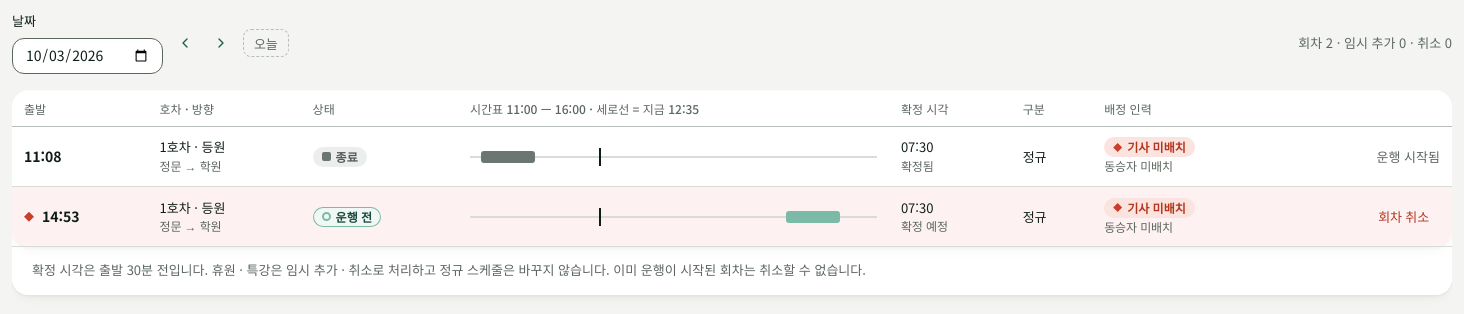
Test: RunDayList — 시간표 막대 열 › 오늘이 아닌 날짜를 보면 세로선 없이 막대만 그린다
Click the button named "다음날" at (221, 43), box [207,29,235,57]
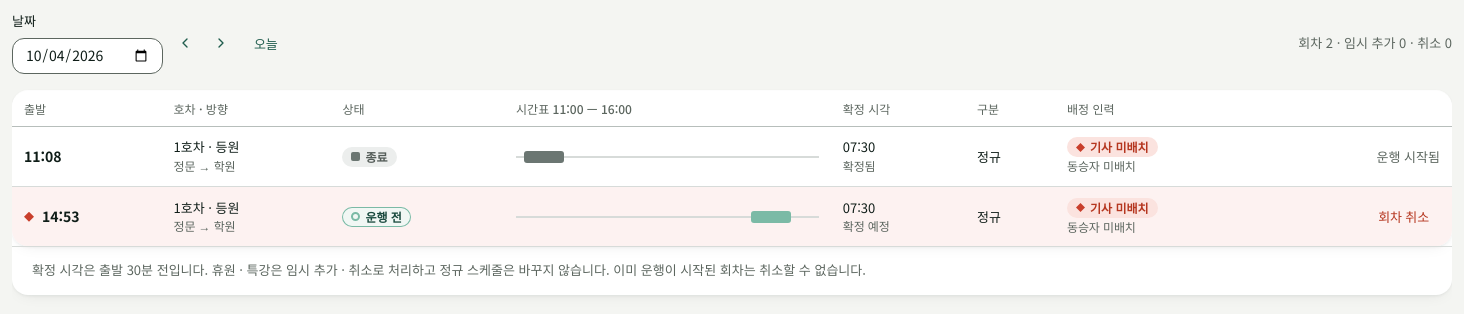
expect the column heading "시간표 11:00 — 16:00" is shown: met, box [504,91,831,126]
expect the element with test id "timetable-now" is gone: met
